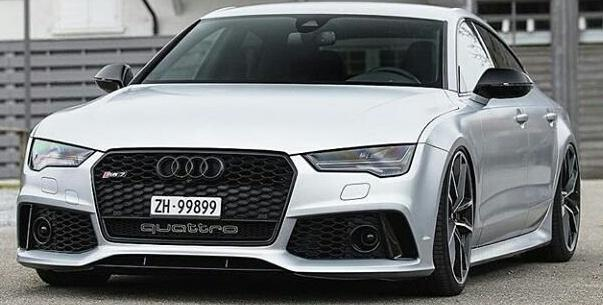Cars: (19, 6, 582, 295)
